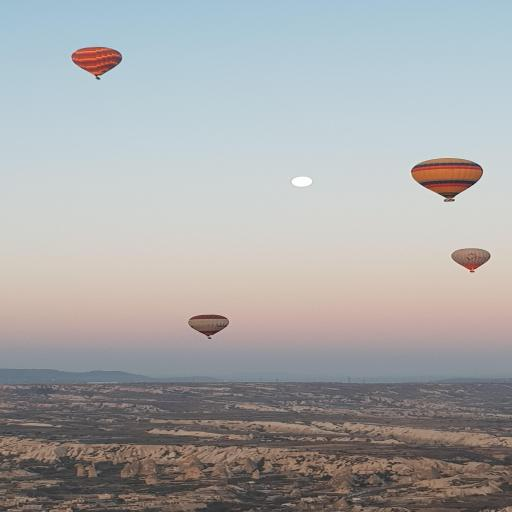hot air ballon: (412, 158, 482, 202), (71, 47, 122, 80), (187, 315, 229, 339), (451, 248, 491, 272)
